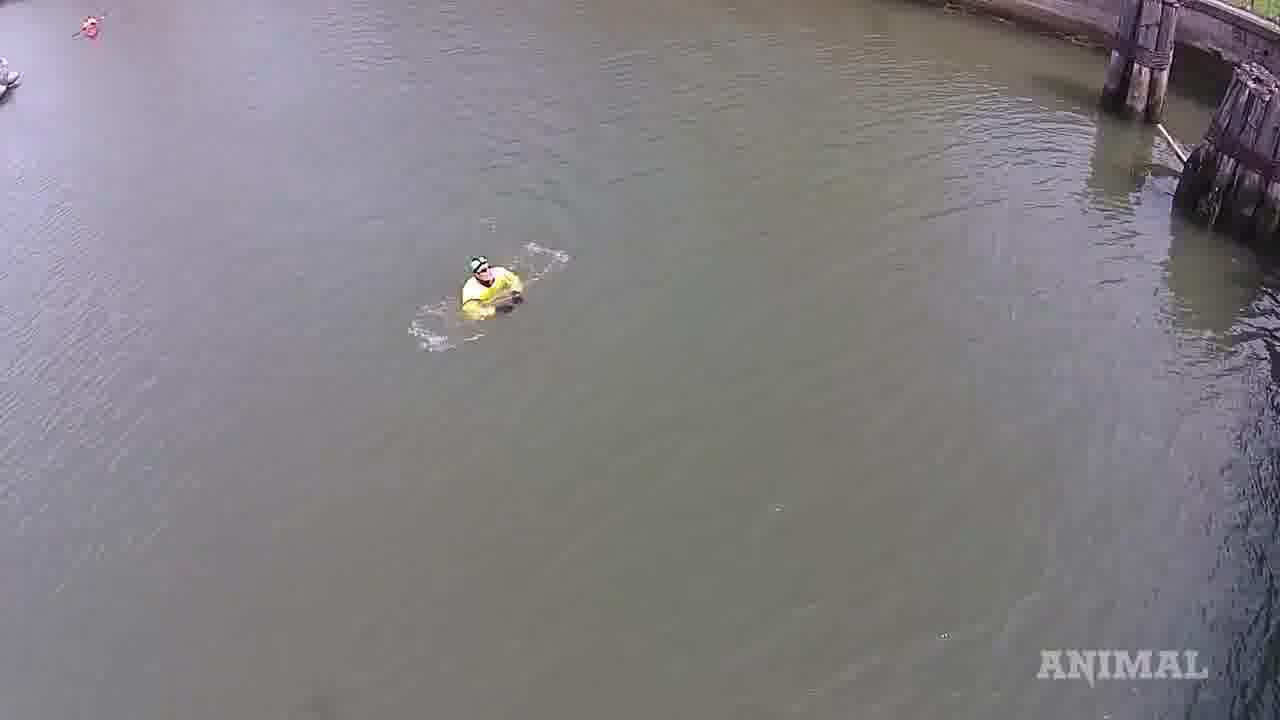swimmer: (446, 239, 553, 331)
